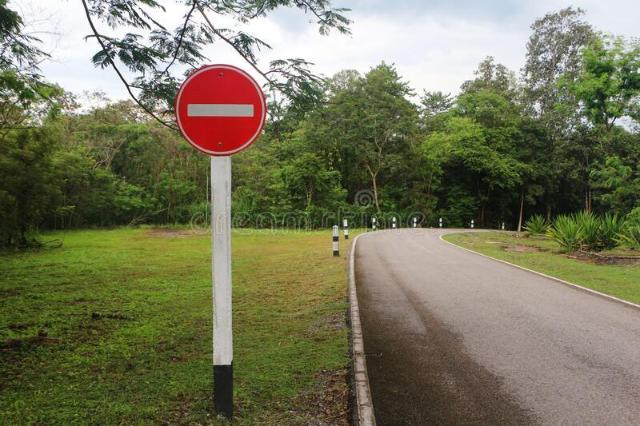B2: (174, 63, 266, 157)
